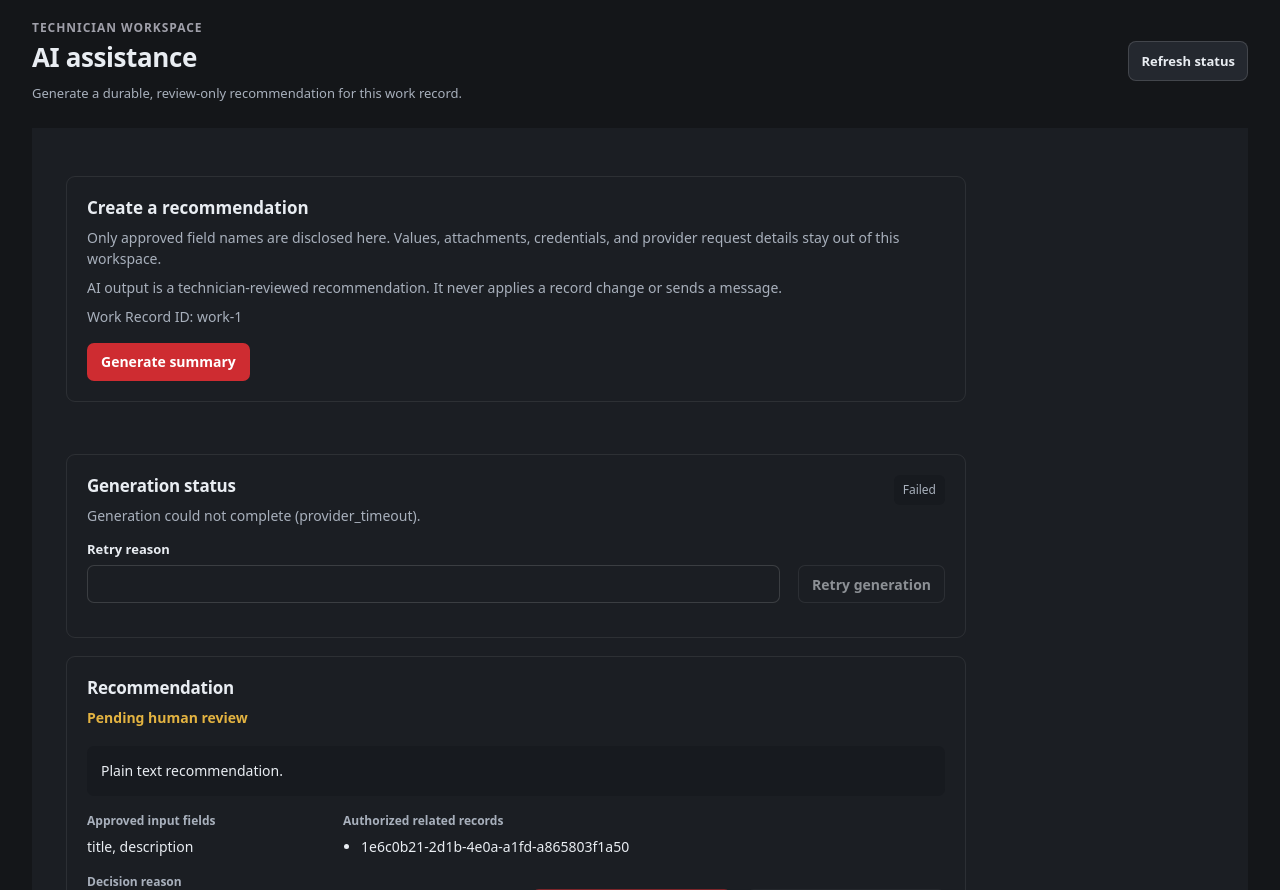
Scenario: AIAssistPanel › offers retry only for safe retryable failures and records a human decision without applying or sending
Check: the text "Generation could not complete (provider_timeout)." is shown, box [87,505,420,526]
Type "Connection is back" into the field labelled "Retry reason" at (434, 584), box [87,565,780,603]
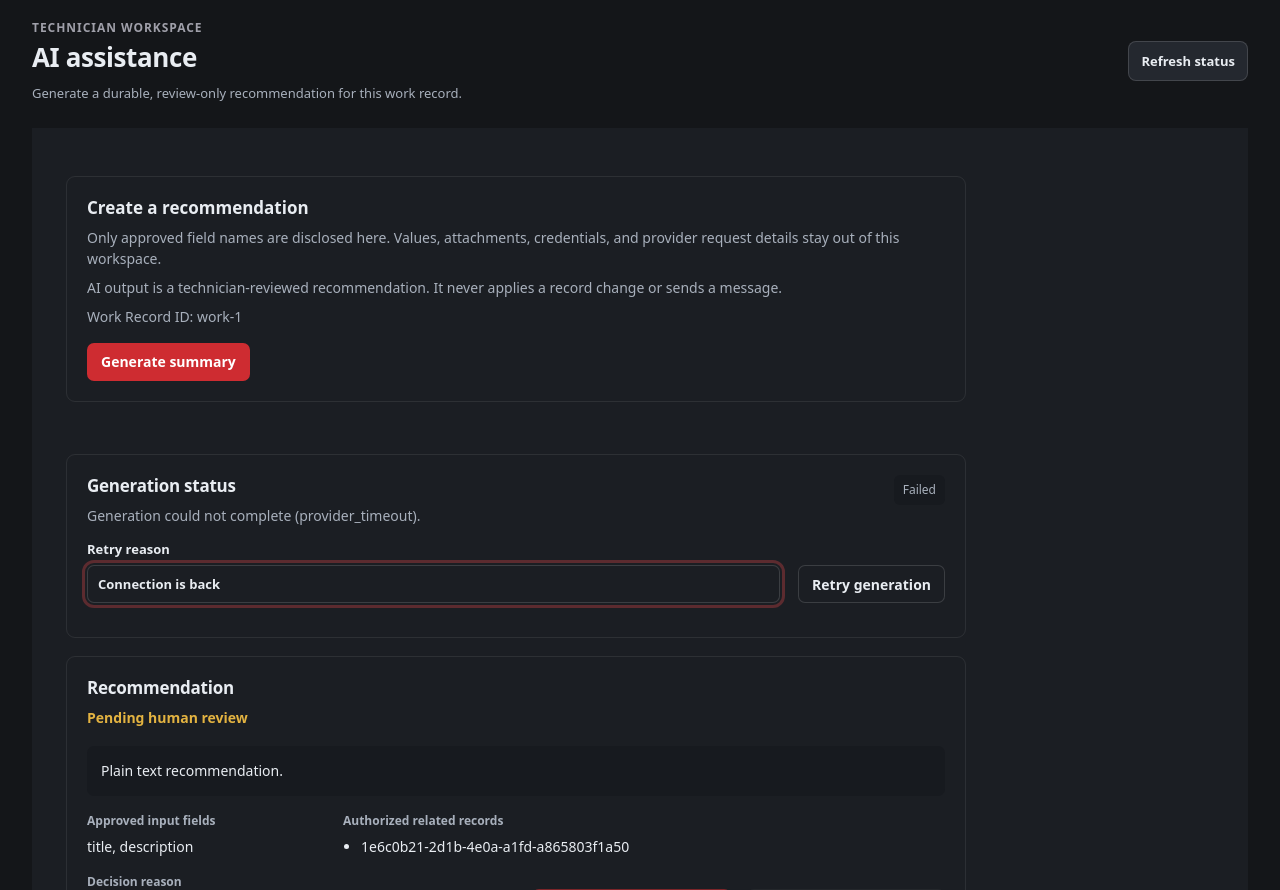
Click the button "Retry generation" at (872, 584), box [798,565,945,603]
(page scrolled)
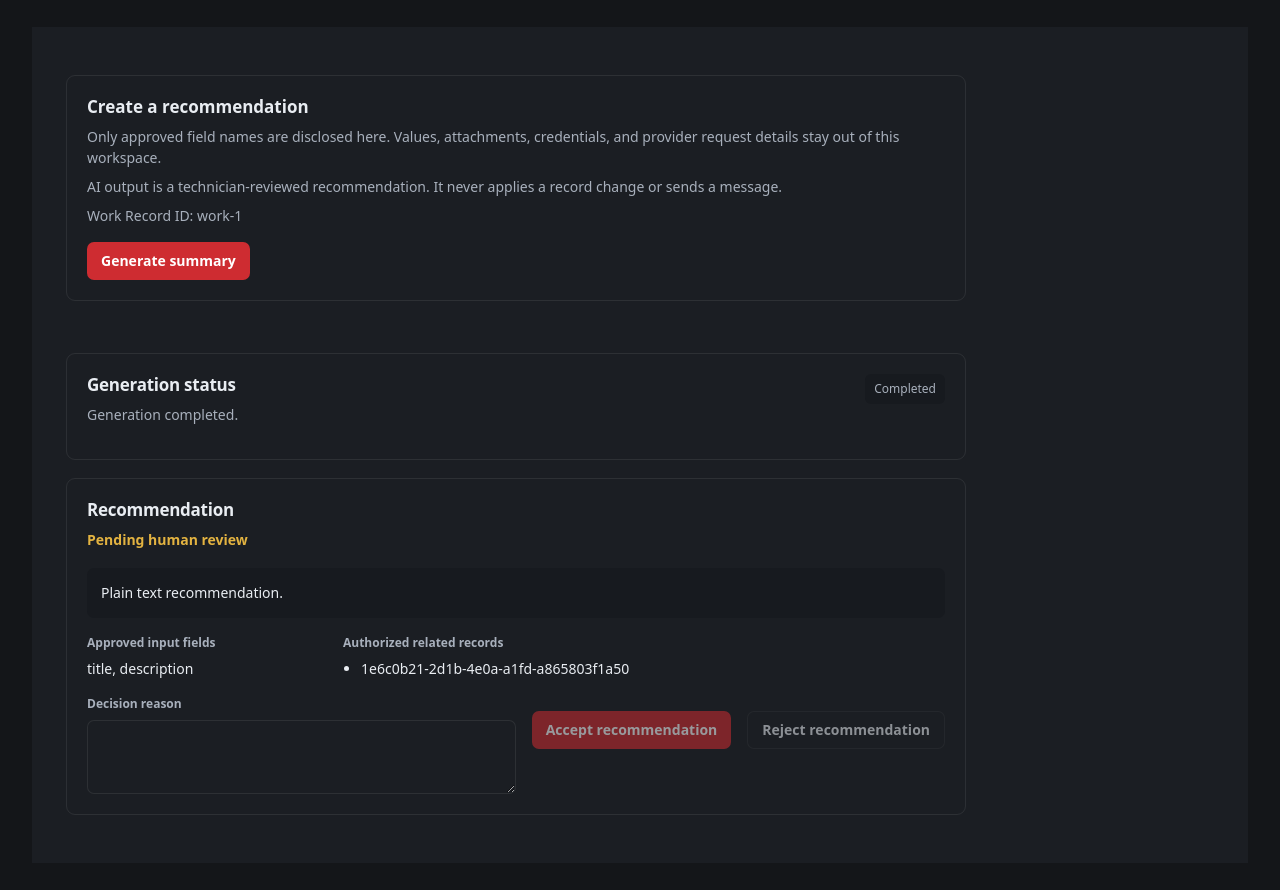
Check: the text "Pending human review" is shown, box [87,529,248,550]
Type "Technician reviewed the draft" into the text box labelled "Decision reason" at (301, 757), box [87,720,516,794]
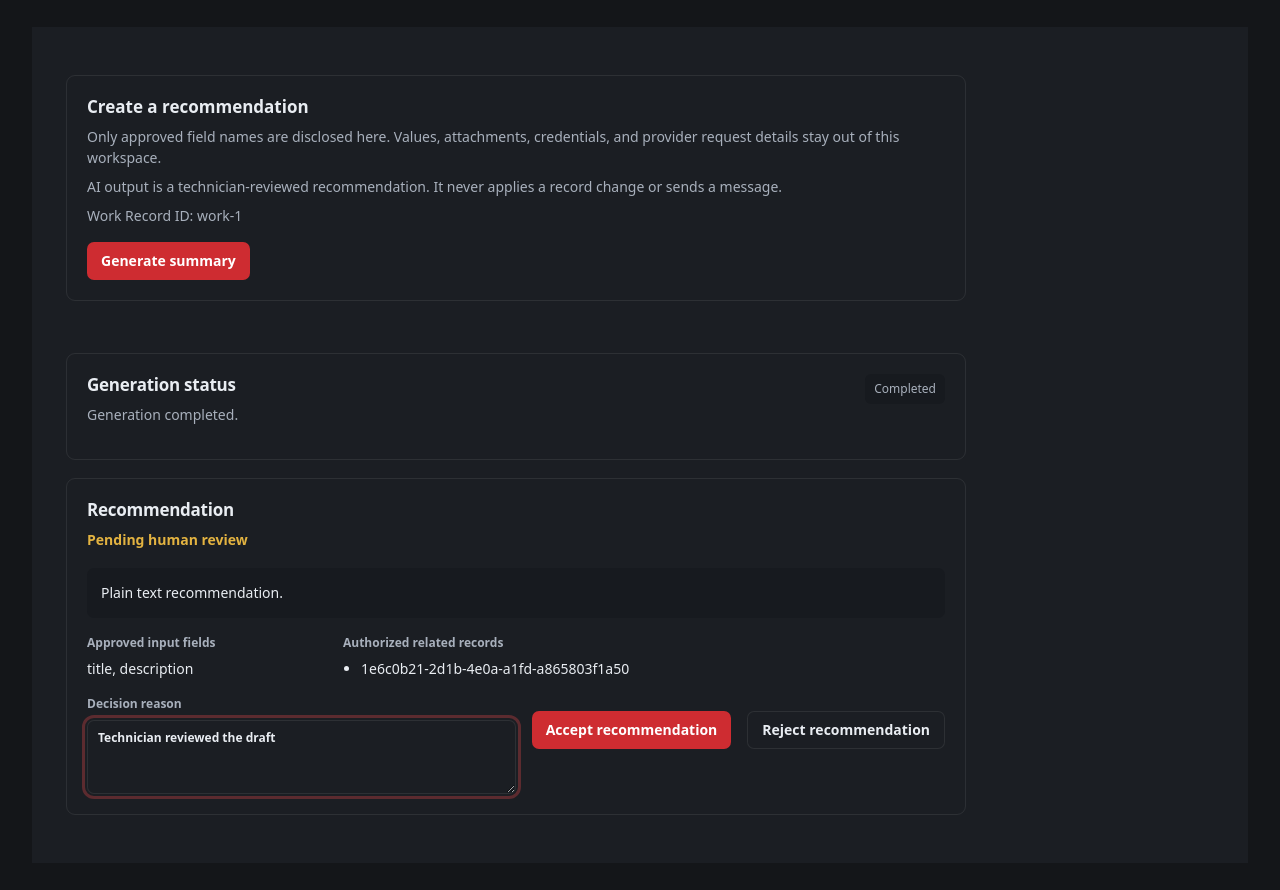
Click the button "Accept recommendation" at (632, 730), box [532,711,731,749]
(page scrolled)
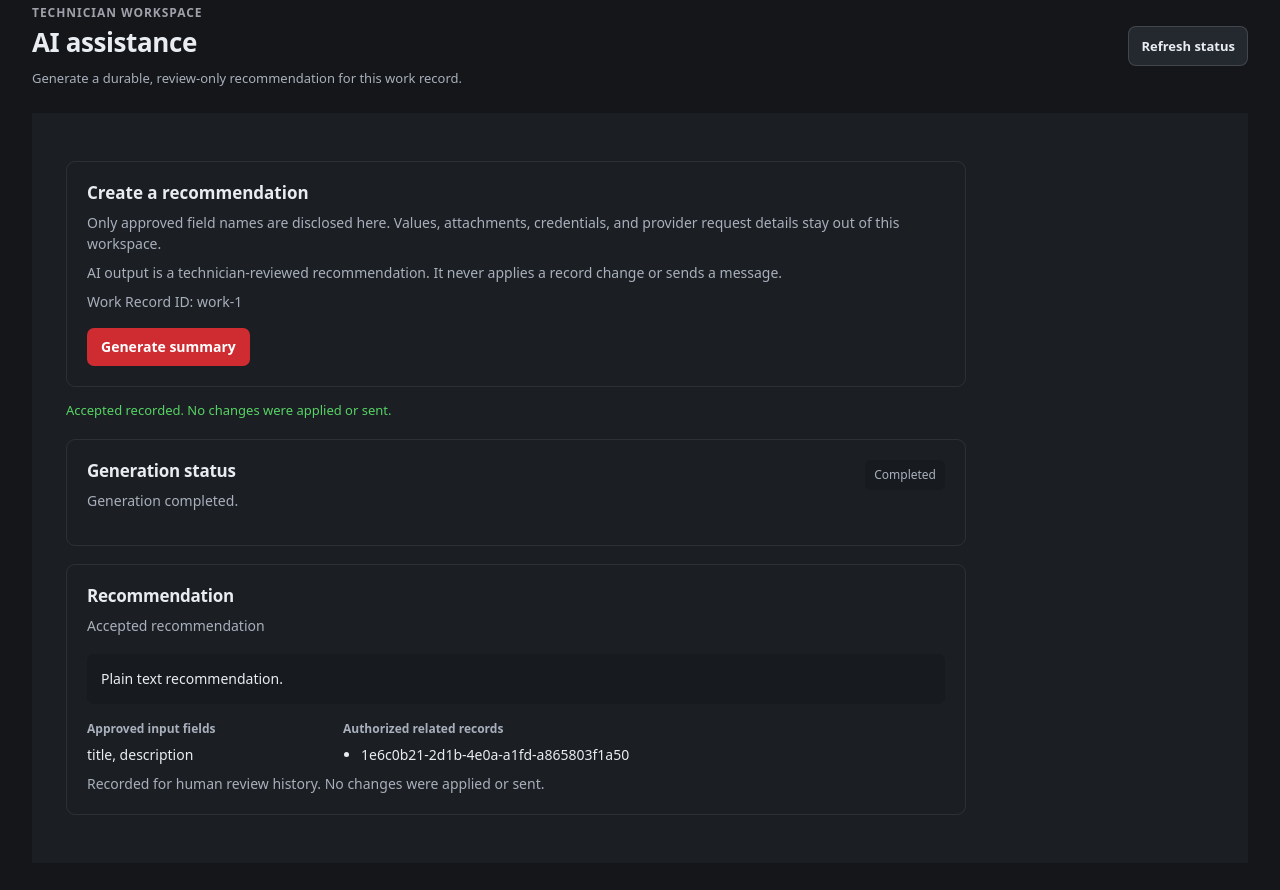
Check: the text "Accepted recorded. No changes were applied or sent." is shown, box [66,401,392,419]
